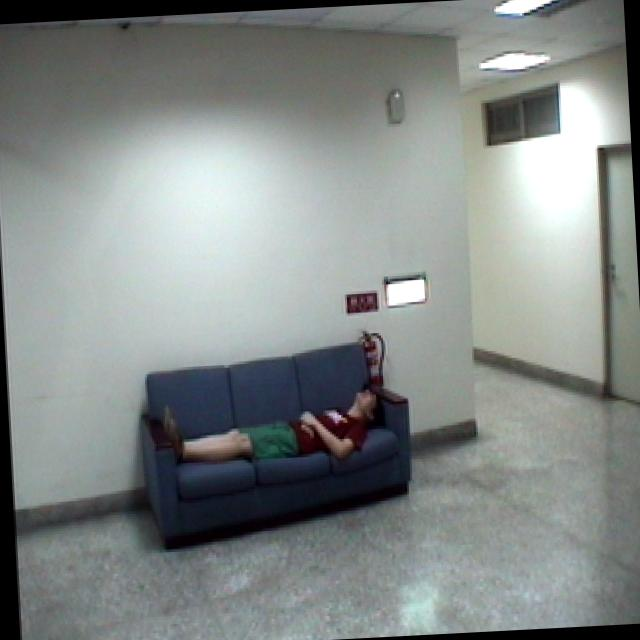lie: (156, 376, 392, 471)
